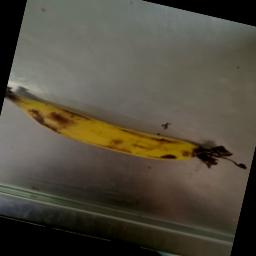Banana Unripe: (4, 87, 247, 168)
